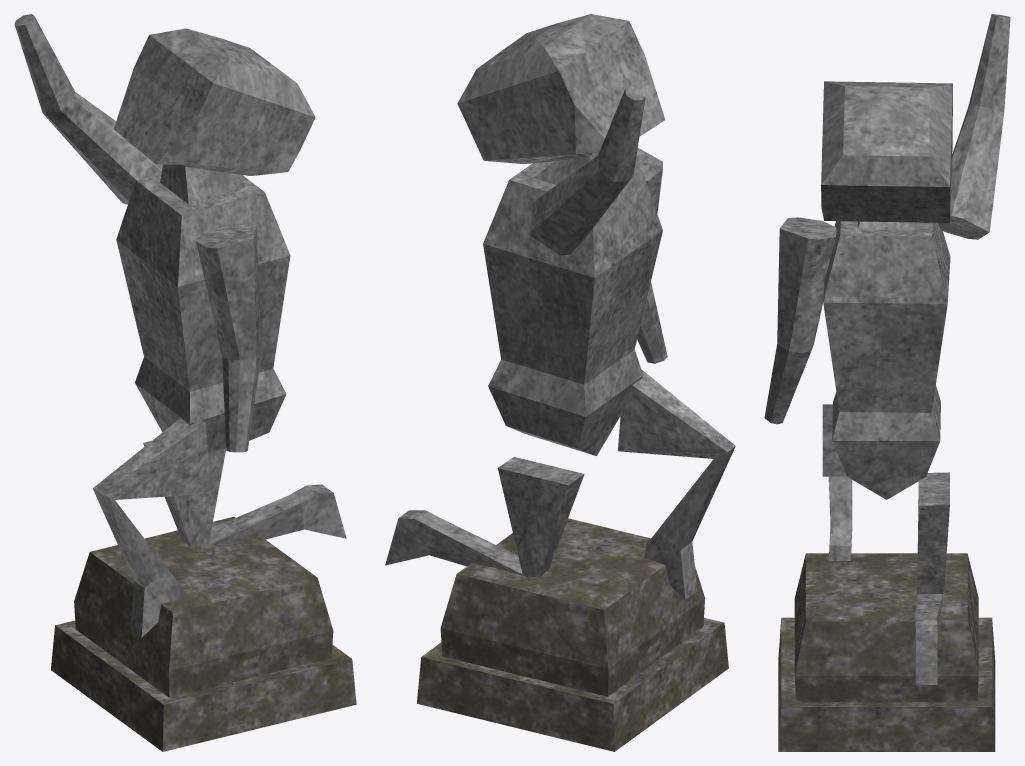
Rendered from Totem_F.fbx.
3 renders of one model, left to right at view 1: azimuth 30°, elevation 25°; view 2: azimuth 150°, elevation 25°; view 3: azimuth 270°, elevation 25°, orthographic. The views are drawn at different scales.
Visible parts, largest first — view 1: Totem_F; view 2: Totem_F; view 3: Totem_F.
Part boxes in pixels (x1,y1,x2,y2): Totem_F: (14, 14, 356, 751); Totem_F: (385, 14, 735, 751); Totem_F: (764, 14, 1010, 751).
Size of the model in its own units: 377 by 817 by 286.
Materials: 2 (2 with a texture image).
